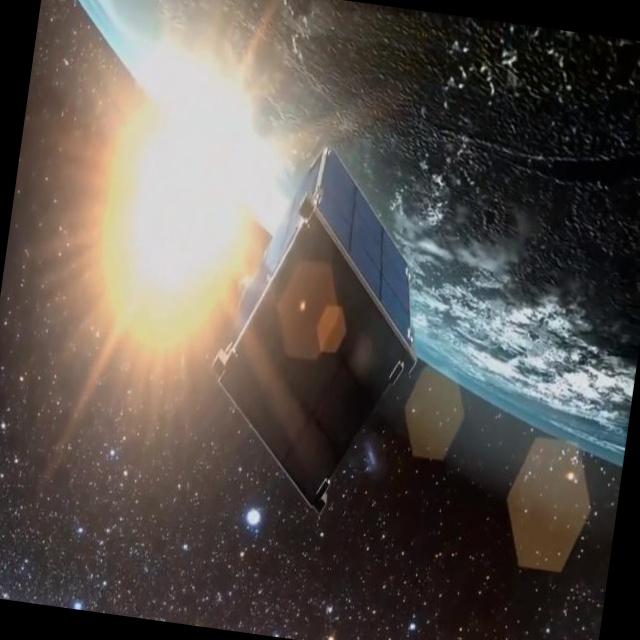satellite: (179, 82, 457, 585)
